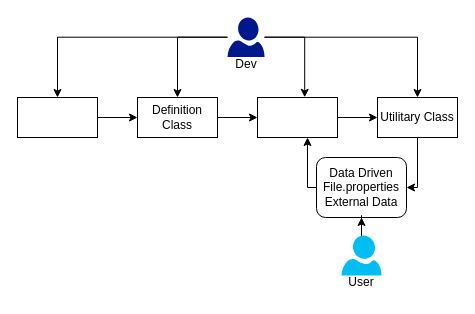
Some shapes in this 475 by 314 pixel diagram are drawn without their labels. Here are the shapes that lost their labels. From the top down, the centre of each, then its label:
(57,117): Feature file
(297,117): Step Class
